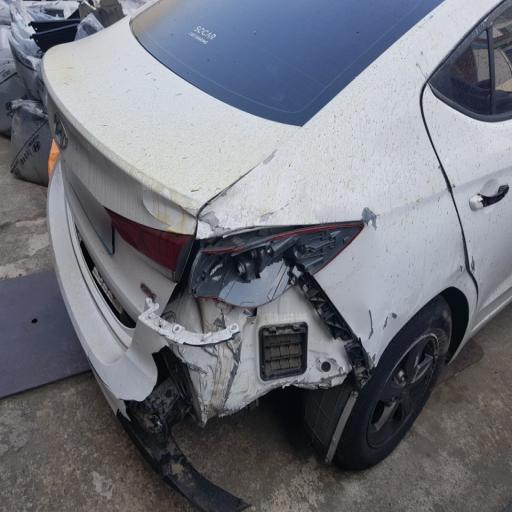broken: (104, 148, 418, 506)
